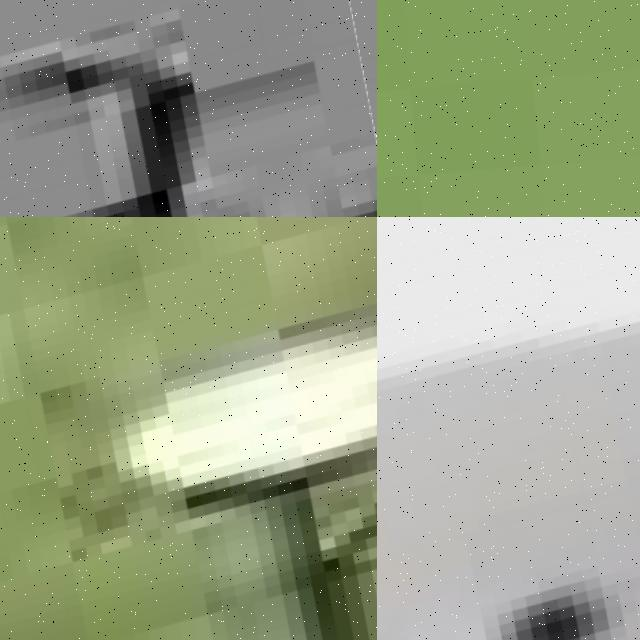drone: (0, 217, 377, 640), (377, 217, 640, 640), (0, 0, 377, 217)
